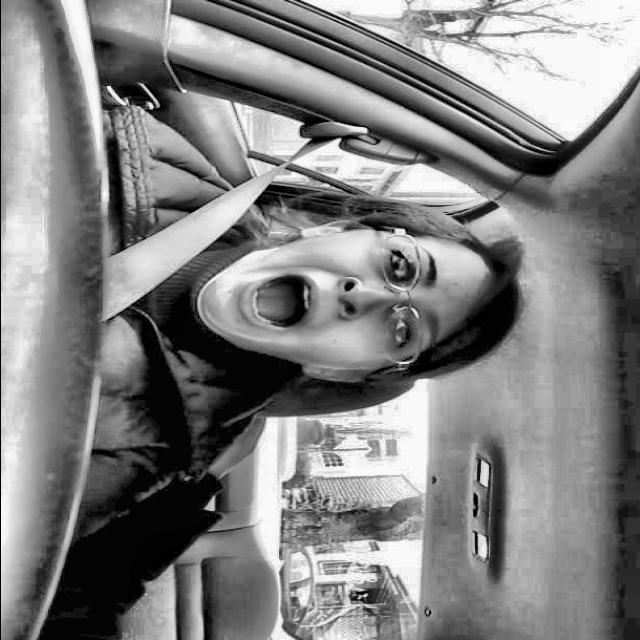open_eyes: (382, 308, 426, 360), (380, 235, 421, 288)
open_mouth: (228, 267, 330, 339)
